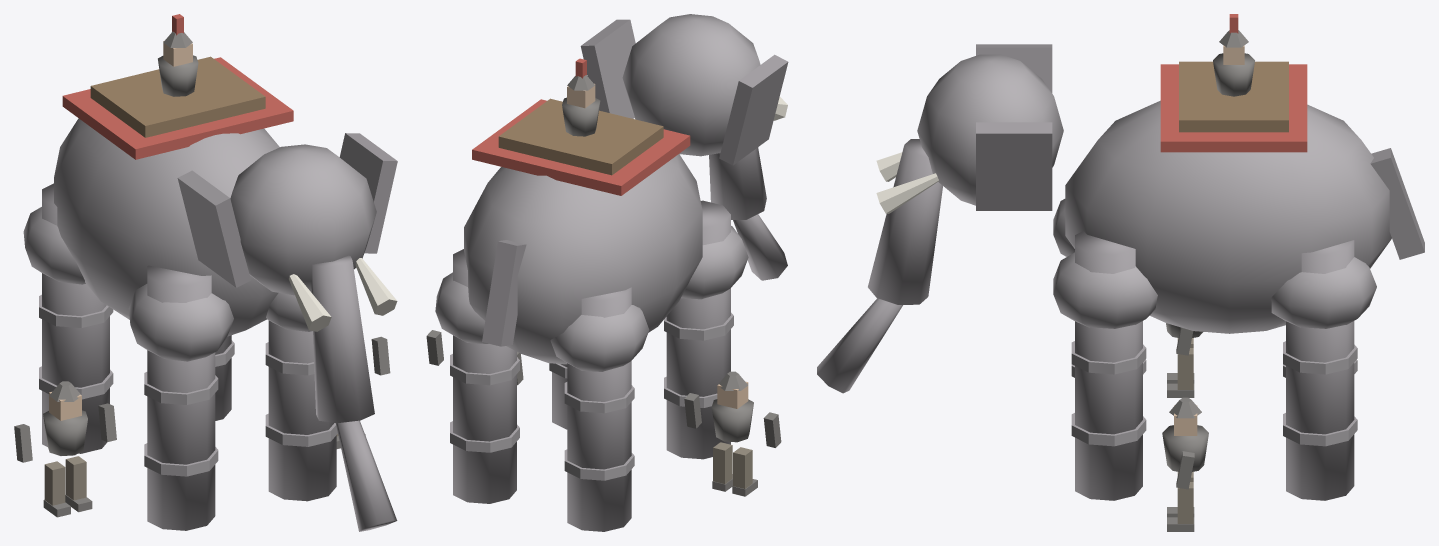
Rendered from troop-war-elephant.glb.
The picture shows the model from 3 angles, left to right: view 1: azimuth 30°, elevation 25°; view 2: azimuth 150°, elevation 25°; view 3: azimuth 270°, elevation 25°; orthographic projection. The views are drawn at different scales.
Visible parts, largest first — view 1: body, head, leg_fl, leg_fr, trunk, leg_bl, back_plank, back_cloth, hip_fl, ear_l, trunk_tip, ear_r (+21 smaller); view 2: body, head, leg_bl, leg_br, leg_fl, back_plank, back_cloth, hip_bl, ear_l, ear_r, trunk, tail (+19 smaller); view 3: body, leg_fr, leg_br, head, trunk, ear_r, back_plank, back_cloth, hip_fr, hip_br, trunk_tip, tail (+8 smaller).
Boxes of the visible parts, bbox=[...] form: body: bbox=[54, 118, 279, 336]; head: bbox=[230, 144, 376, 295]; leg_fl: bbox=[147, 265, 215, 530]; leg_fr: bbox=[268, 320, 336, 501]; trunk: bbox=[311, 255, 374, 423]; leg_bl: bbox=[42, 183, 109, 453]; back_plank: bbox=[90, 56, 265, 137]; back_cloth: bbox=[62, 57, 293, 159]; hip_fl: bbox=[128, 284, 233, 361]; ear_l: bbox=[177, 170, 250, 287]; trunk_tip: bbox=[335, 420, 397, 531]; ear_r: bbox=[339, 133, 397, 253]; body: bbox=[464, 154, 702, 364]; head: bbox=[622, 14, 760, 156]; leg_bl: bbox=[567, 287, 631, 531]; leg_br: bbox=[453, 249, 516, 503]; leg_fl: bbox=[666, 200, 730, 459]; back_plank: bbox=[498, 98, 663, 175]; back_cloth: bbox=[472, 99, 690, 195]; hip_bl: bbox=[550, 305, 649, 371]; ear_l: bbox=[719, 54, 788, 165]; ear_r: bbox=[580, 19, 635, 118]; trunk: bbox=[709, 147, 766, 219]; tail: bbox=[482, 240, 526, 346]; body: bbox=[1065, 100, 1391, 333]; leg_fr: bbox=[1075, 231, 1142, 500]; leg_br: bbox=[1286, 240, 1354, 500]; head: bbox=[917, 54, 1063, 205]; trunk: bbox=[868, 139, 942, 304]; ear_r: bbox=[976, 122, 1052, 210]; back_plank: bbox=[1179, 61, 1288, 132]; back_cloth: bbox=[1160, 64, 1307, 152]; hip_fr: bbox=[1053, 252, 1157, 328]; hip_br: bbox=[1271, 257, 1376, 328]; trunk_tip: bbox=[817, 298, 902, 393]; tail: bbox=[1370, 148, 1424, 259].
Size of the model in its own units: 0.2901 by 0.3315 by 0.4144.
